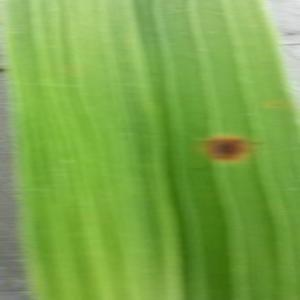Brown_Spot: (193, 124, 266, 169)
